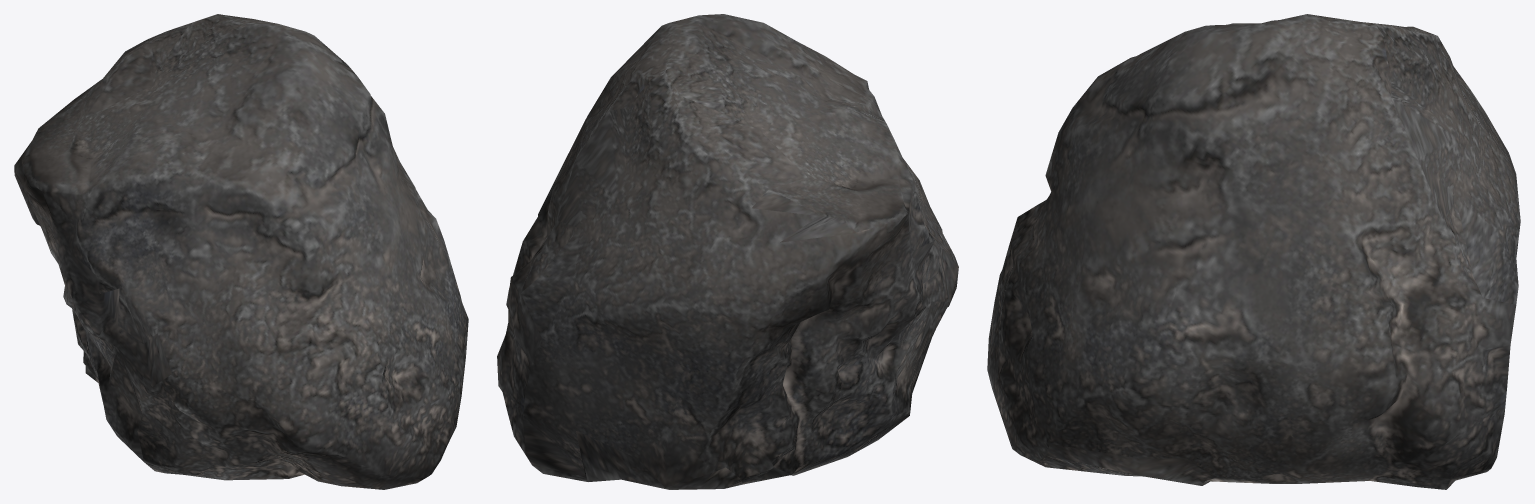
File: Rock_medium_02_GREY.fbx
3 renders of one model, left to right at view 1: azimuth 30°, elevation 25°; view 2: azimuth 150°, elevation 25°; view 3: azimuth 270°, elevation 25°, orthographic. The views are drawn at different scales.
Parts seen in each view (by area): view 1: Rock_medium_02_GREY; view 2: Rock_medium_02_GREY; view 3: Rock_medium_02_GREY.
Boxes of the visible parts, x1,y1,x2,y2 form: Rock_medium_02_GREY: [14, 14, 468, 489]; Rock_medium_02_GREY: [497, 14, 958, 489]; Rock_medium_02_GREY: [987, 14, 1520, 489].
Bounding box in the file's own units: 0.2851 × 0.2917 × 0.3253.
1 material, 1 textured.
